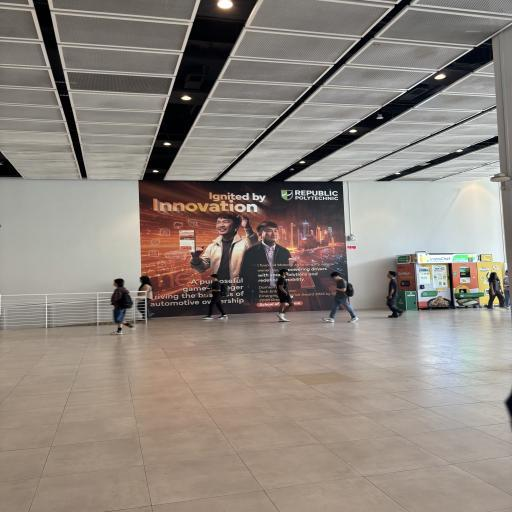person_left: (324, 272, 357, 324), (200, 275, 234, 321), (110, 276, 134, 337), (136, 275, 159, 320), (386, 270, 402, 319)
person_right: (270, 270, 298, 324)
